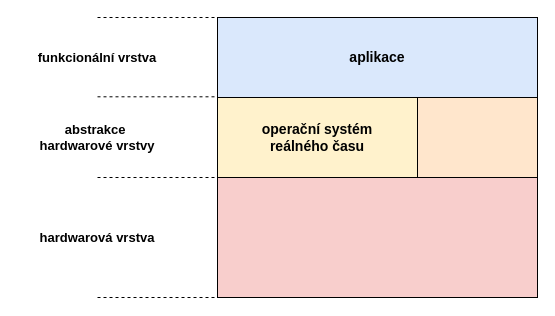
The diagram is 555 pixels wide and 316 high, and some of its shapes have lost their labels. Here are the shapes that lost their labels. From the top down, the centre of each, then its label:
the point at 477,137: souborový systém
the point at 377,237: hardware
